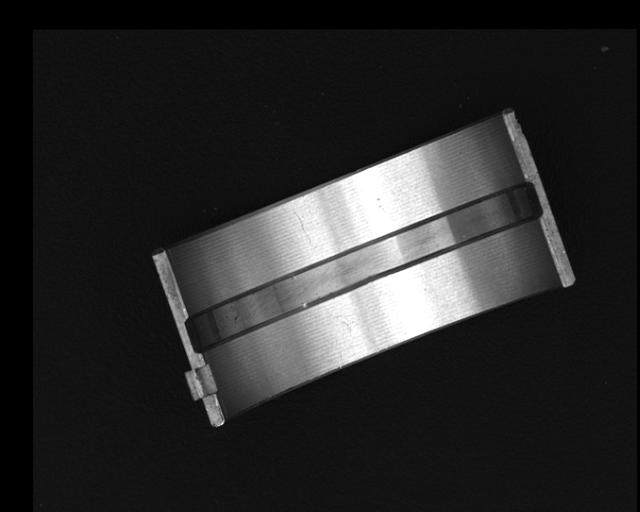gap: (184, 183, 543, 351)
nick: (292, 209, 311, 243)
